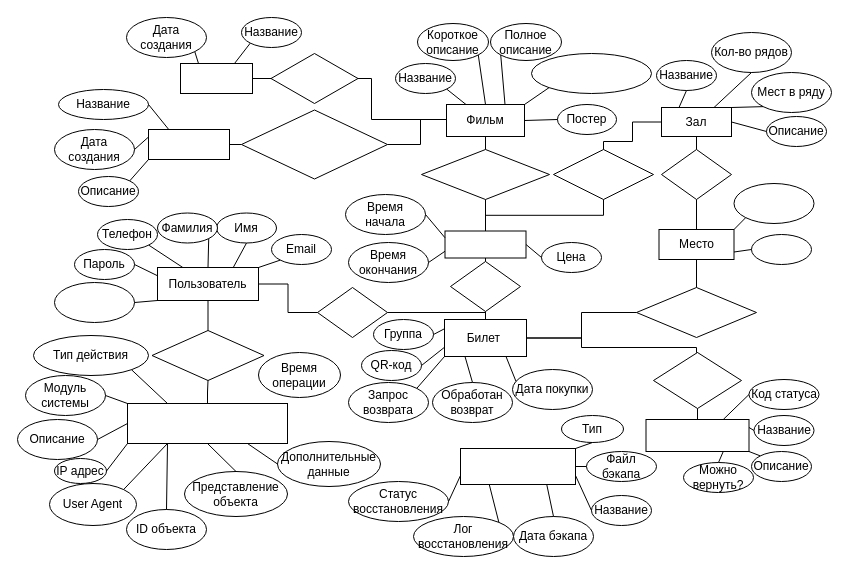
This 849x574 diagram has some shape labels left out. The shapes that lost their labels are listed below. From the top down, each one's centre as x and y in pixels, then its label:
the point at 216,78: Жанр
the point at 314,78: Имеет жанр
the point at 591,73: Продолжительность
the point at 189,144: Возрастной рейтинг
the point at 314,144: Имеет возрастной рейтинг
the point at 485,174: Демонстрируется
the point at 603,174: Используется
the point at 696,174: Содержит
the point at 773,203: Номер места
the point at 485,244: Сеанс
the point at 781,249: Ряд
the point at 94,302: Дата регистрации
the point at 485,286: Продается
the point at 352,312: Покупает
the point at 696,312: Забронировано
the point at 207,355: Записывается
the point at 697,380: Имеет статус
the point at 207,423: Логирование операций
the point at 697,435: Статус билета
the point at 518,466: Бэкап менеджер
